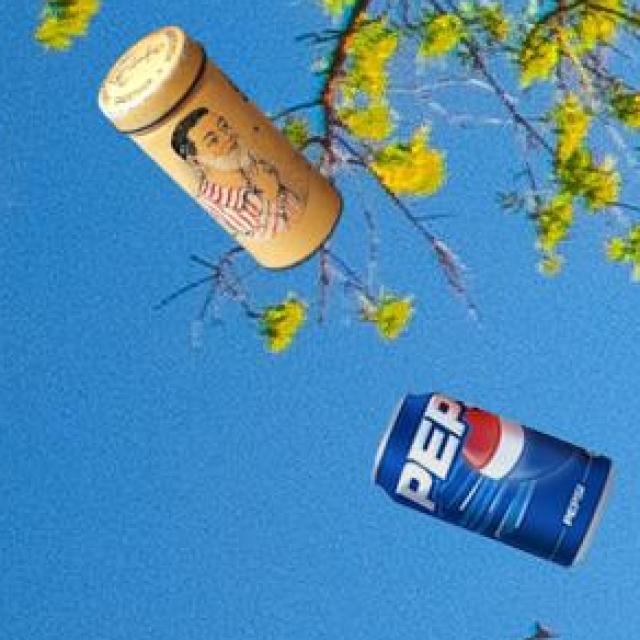logam: (102, 30, 345, 273), (376, 398, 617, 569)
